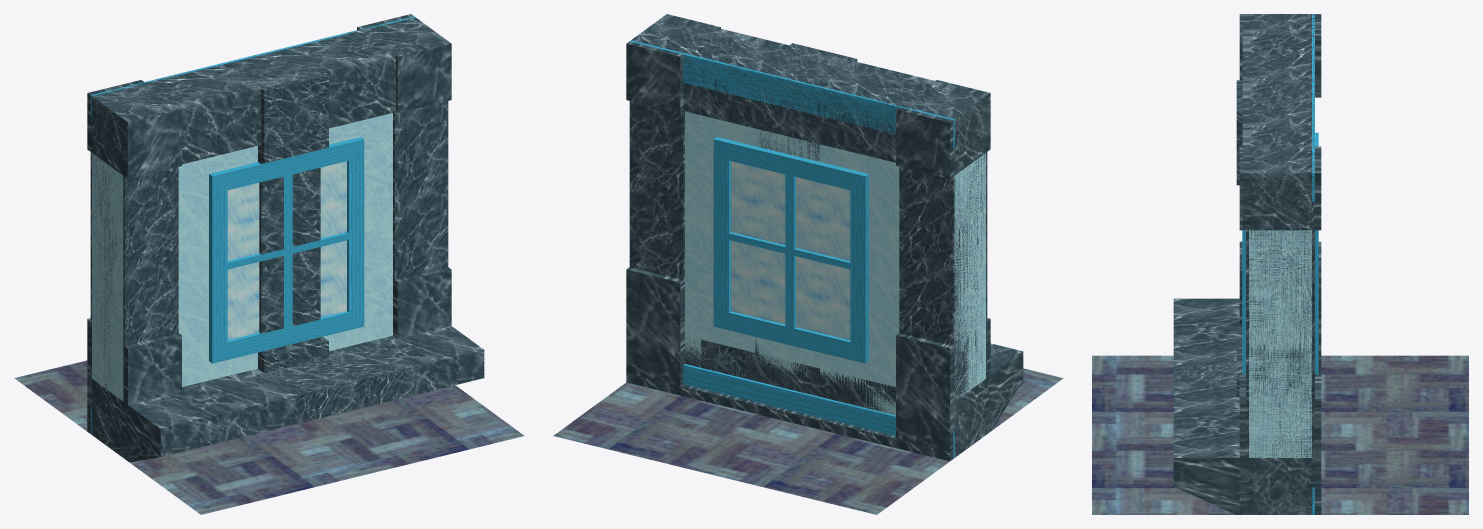
Rendered from Building Pieces v3.fbx.
3 views of the same model, side by side, from view 1: azimuth 30°, elevation 25°; view 2: azimuth 150°, elevation 25°; view 3: azimuth 270°, elevation 25° (orthographic).
Visible parts, largest first — view 1: Wall 1, Door Frame, Floor, Window, Ledge 1, Corner 1, Ledge Corner; view 2: Door Frame, Wall 1, Window, Floor, Ledge 1, Corner 1, Ledge Corner; view 3: Floor, Wall 1, Door Frame, Ledge 1, Corner 1, Ledge Corner, Window.
Part boxes in pixels (x1,y1,x2,y2): Wall 1: (90, 16, 449, 453); Door Frame: (87, 14, 451, 433); Floor: (14, 360, 524, 514); Window: (209, 137, 364, 363); Ledge 1: (92, 326, 484, 462); Corner 1: (230, 47, 328, 372); Ledge Corner: (265, 342, 414, 423); Door Frame: (626, 14, 990, 461); Wall 1: (630, 15, 988, 458); Window: (713, 137, 868, 363); Floor: (553, 368, 1063, 514); Ledge 1: (685, 338, 1023, 455); Corner 1: (755, 43, 857, 396); Ledge Corner: (701, 339, 819, 393); Floor: (1092, 355, 1468, 514); Wall 1: (1242, 14, 1314, 514); Door Frame: (1239, 14, 1321, 514); Ledge 1: (1173, 298, 1311, 514); Corner 1: (1236, 80, 1311, 396); Ledge Corner: (1173, 365, 1236, 392); Window: (1242, 132, 1318, 374).
Bounding box in the file's own units: 6 × 6 × 6.
